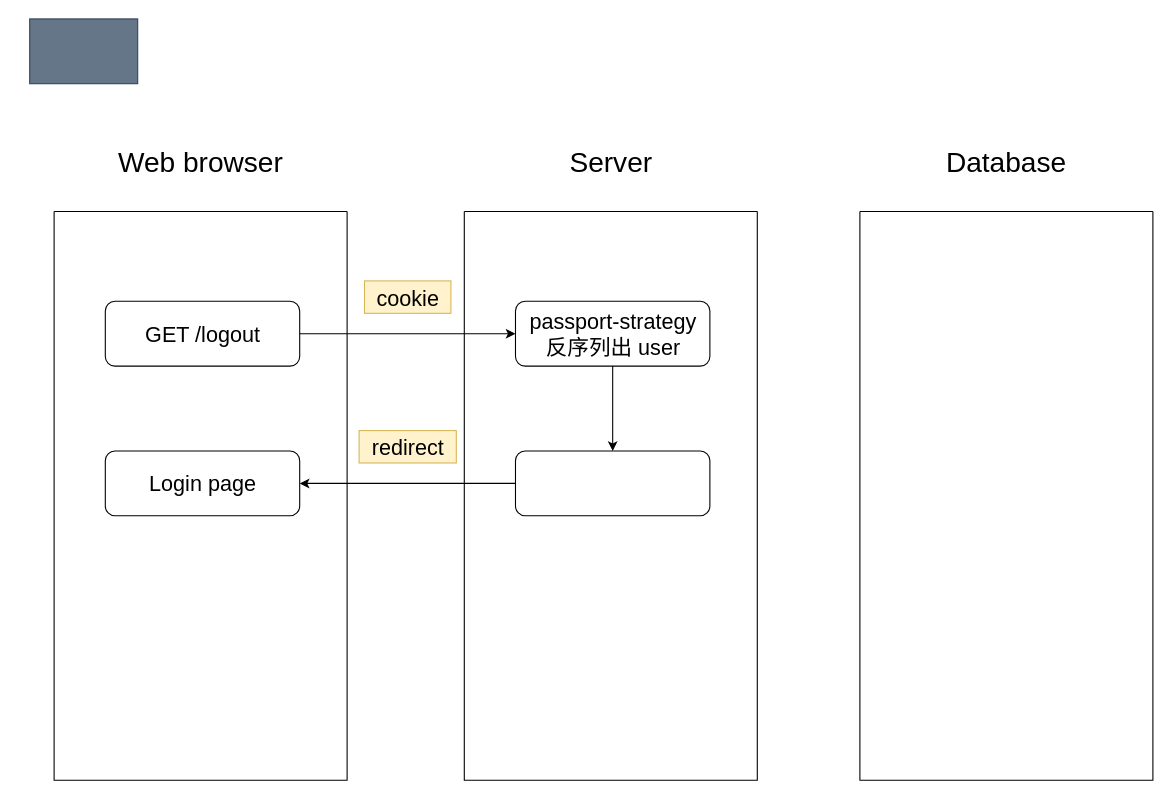
Image size: 1172x799. Some labels were removed from this diagram. Each missing label, with the box of its shape:
從 session 中 移除 user: (514, 450, 710, 516)
登出: (29, 18, 138, 84)
